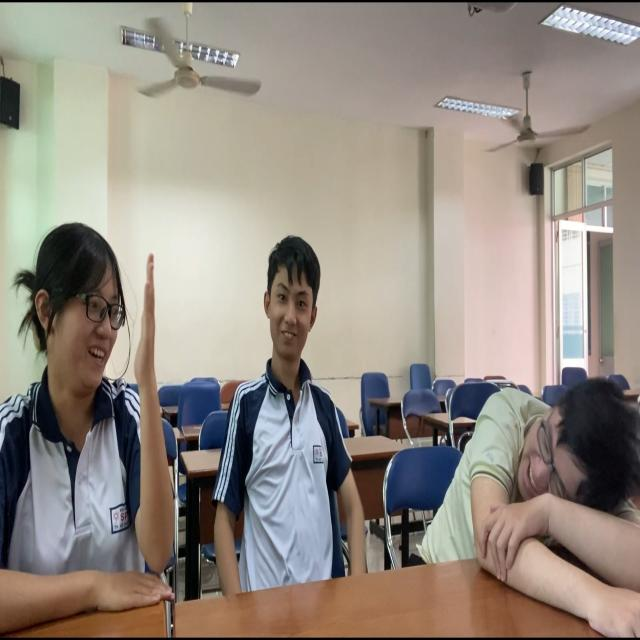raise_hand: (1, 225, 195, 629)
